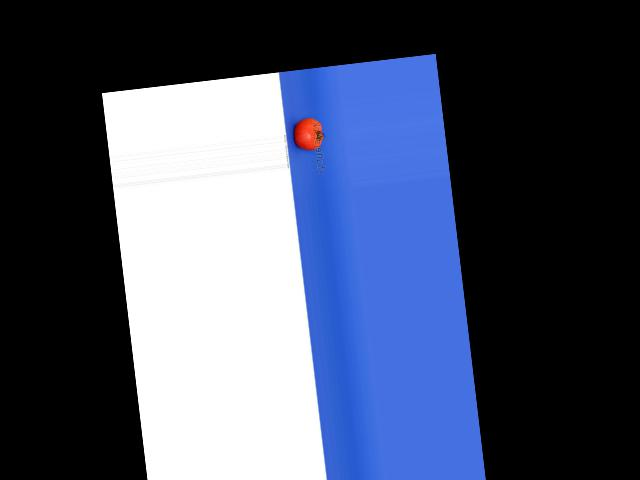tomato: (292, 115, 324, 151)
